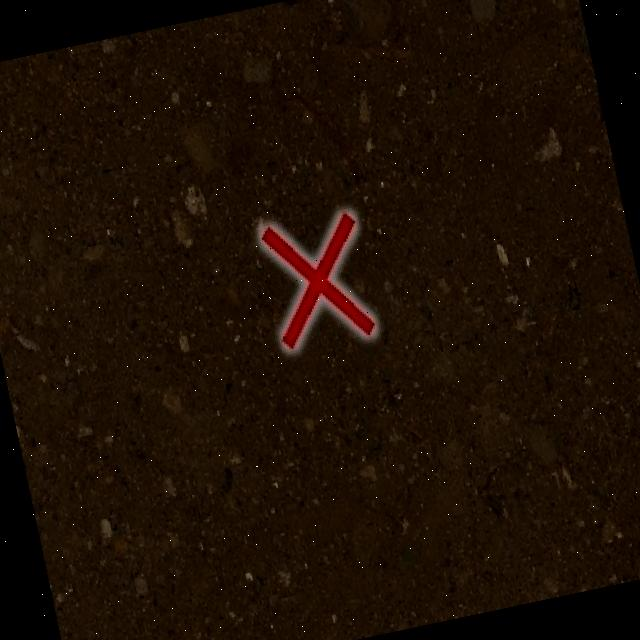x_marker: (258, 208, 376, 350)
